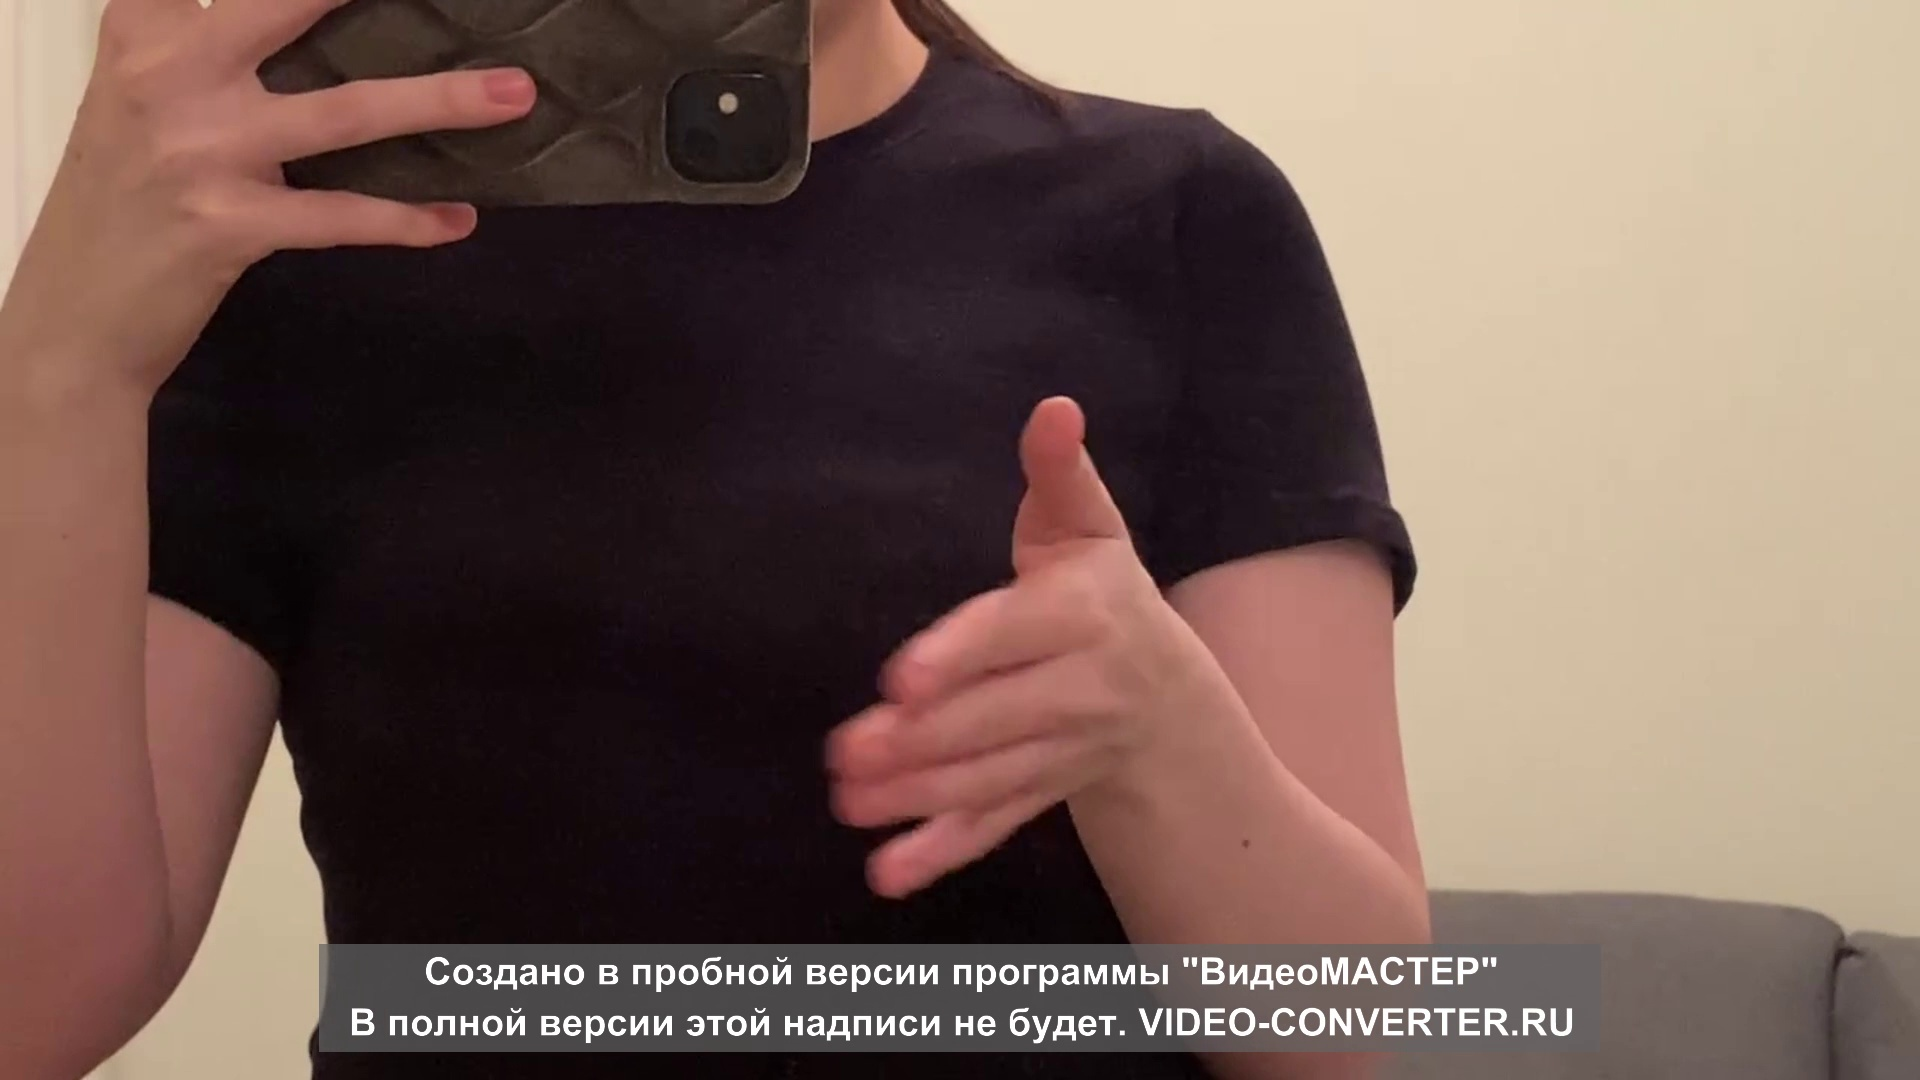Кисть: (831, 394, 1158, 899)
